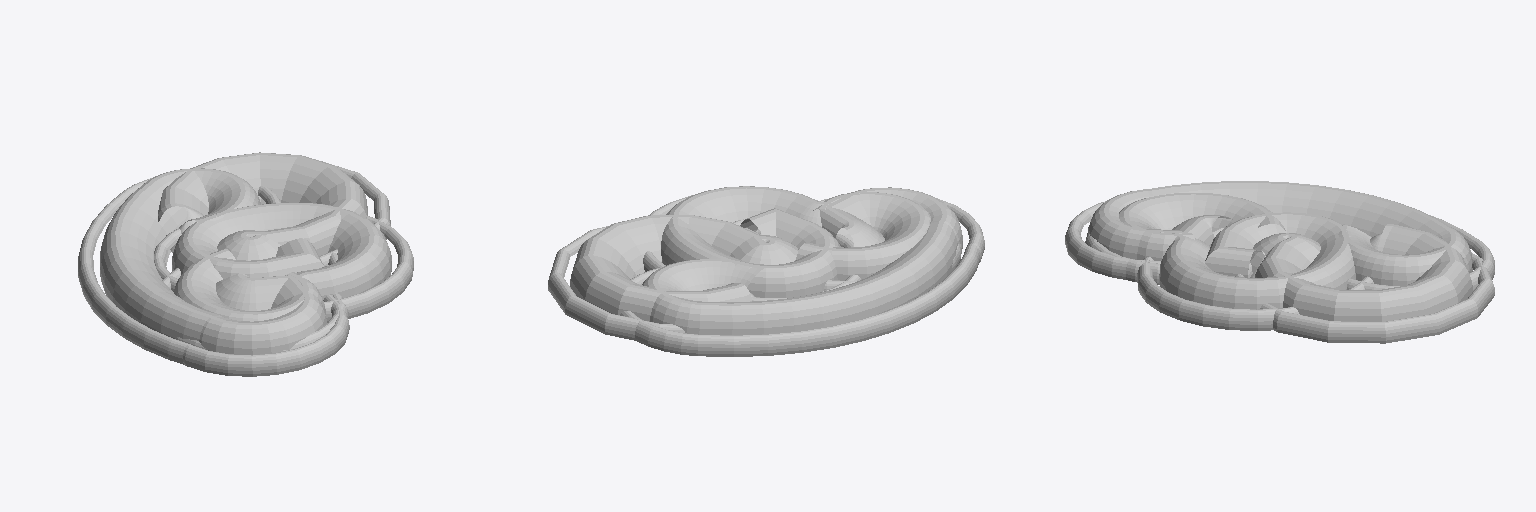
Rendered from white.obj.
The picture shows the model from 3 angles: view 1: azimuth 30°, elevation 25°; view 2: azimuth 150°, elevation 25°; view 3: azimuth 270°, elevation 25°; orthographic projection.
Parts seen in each view (by area): view 1: Group_008; view 2: Group_008; view 3: Group_008.
Boxes of the visible parts, x1=… form: Group_008: x1=78, y1=152, x2=413, y2=376; Group_008: x1=548, y1=186, x2=984, y2=356; Group_008: x1=1065, y1=181, x2=1494, y2=343.
Bounding box in the file's own units: 0.3978 × 0.0567 × 0.4636.